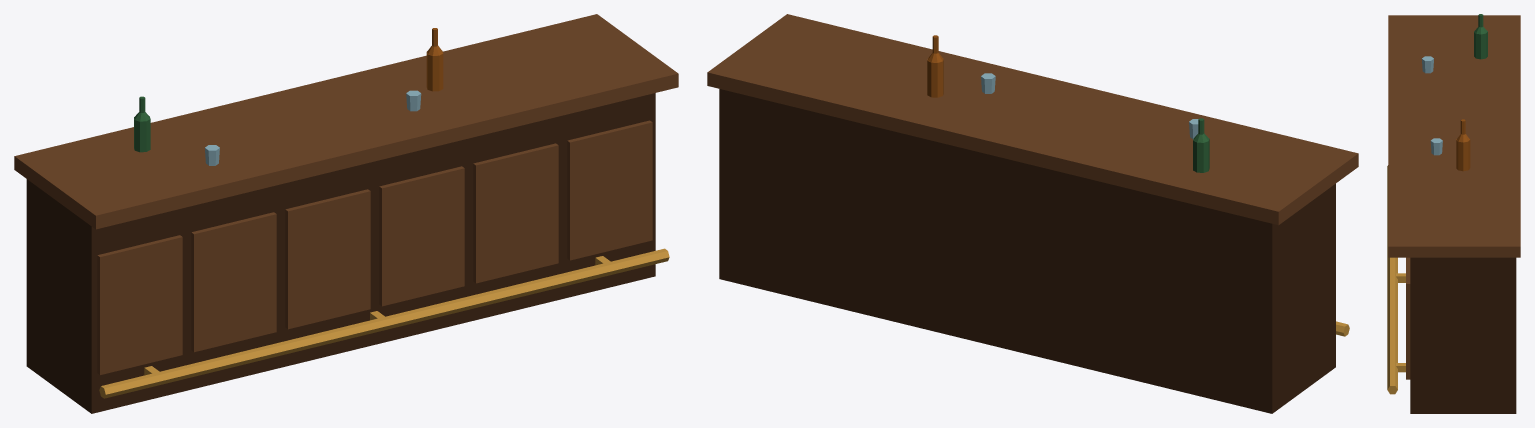
The model's file is SM_Bar_Counter.obj.
3 renders of one model, left to right at view 1: azimuth 30°, elevation 25°; view 2: azimuth 150°, elevation 25°; view 3: azimuth 270°, elevation 25°, orthographic. The views are drawn at different scales.
Parts seen in each view (by area): view 1: SM_Bar_Counter; view 2: SM_Bar_Counter; view 3: SM_Bar_Counter.
Part boxes in pixels (box(x1,y1,x2,y2)): SM_Bar_Counter: box(14, 14, 678, 413); SM_Bar_Counter: box(707, 14, 1358, 413); SM_Bar_Counter: box(1387, 14, 1520, 413).
Bounding box in the file's own units: 3.1 × 1.37 × 0.755.
